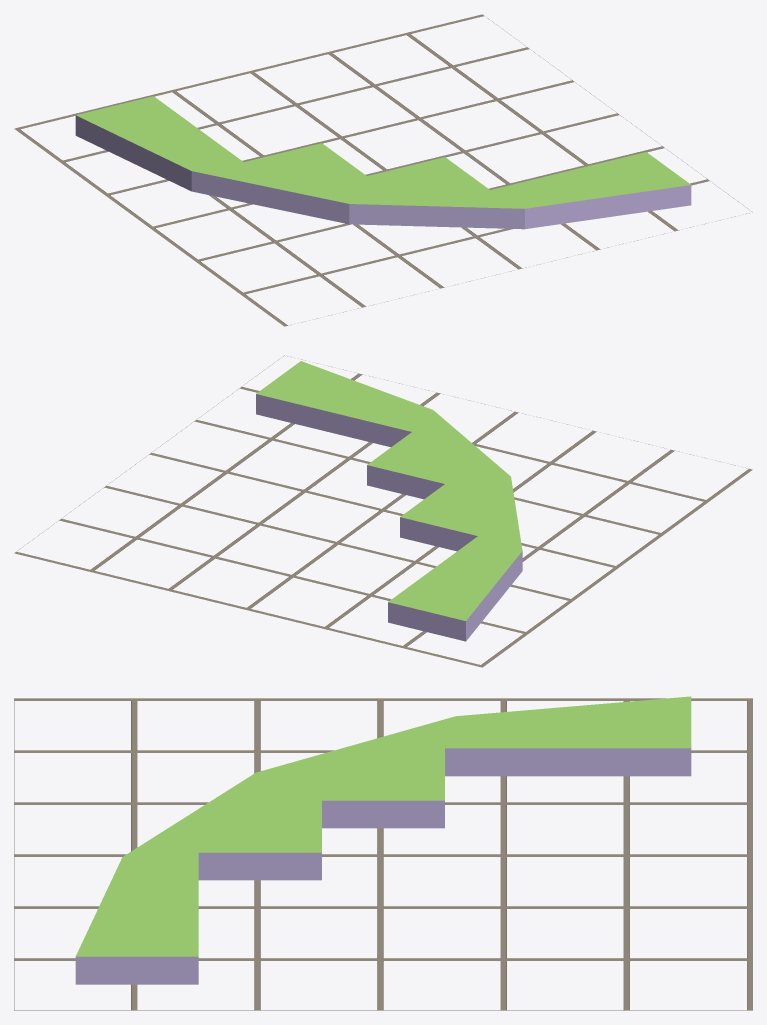
Rendered from Tiered_Grass_Curve_Outer_5x5.glb.
3 views of the same model, one above another, from view 1: azimuth 30°, elevation 25°; view 2: azimuth 150°, elevation 25°; view 3: azimuth 270°, elevation 25° (orthographic). The views are drawn at different scales.
Visible parts, largest first — view 1: Tiered_Grass_Curve_Outer_5x5, Floor; view 2: Tiered_Grass_Curve_Outer_5x5, Floor; view 3: Tiered_Grass_Curve_Outer_5x5, Floor.
Boxes of the visible parts, x1=… form: Tiered_Grass_Curve_Outer_5x5: x1=75, y1=96, x2=691, y2=229; Floor: x1=14, y1=14, x2=752, y2=326; Tiered_Grass_Curve_Outer_5x5: x1=256, y1=361, x2=522, y2=641; Floor: x1=14, y1=355, x2=752, y2=667; Tiered_Grass_Curve_Outer_5x5: x1=75, y1=696, x2=691, y2=984; Floor: x1=14, y1=698, x2=752, y2=1010.
Size of the model in its own units: 600 by 25 by 600.
4 materials, 1 textured.
